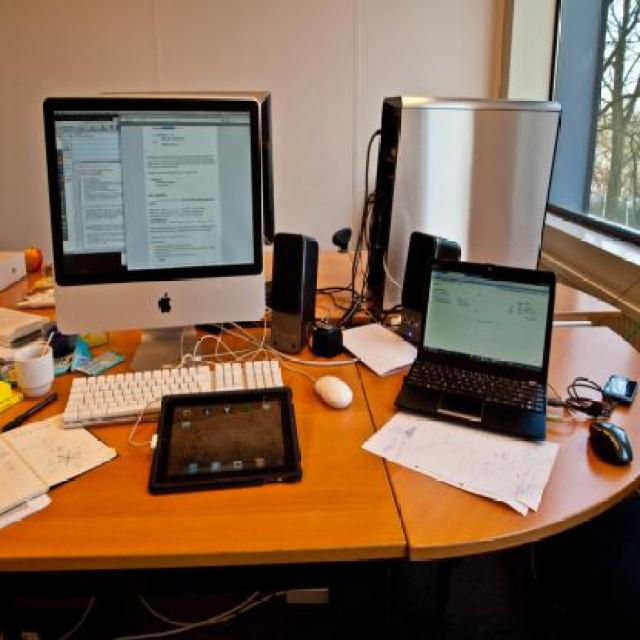komputer: (47, 95, 265, 370)
laptop: (397, 269, 560, 439)
mouse: (591, 421, 634, 465), (312, 376, 354, 408)
